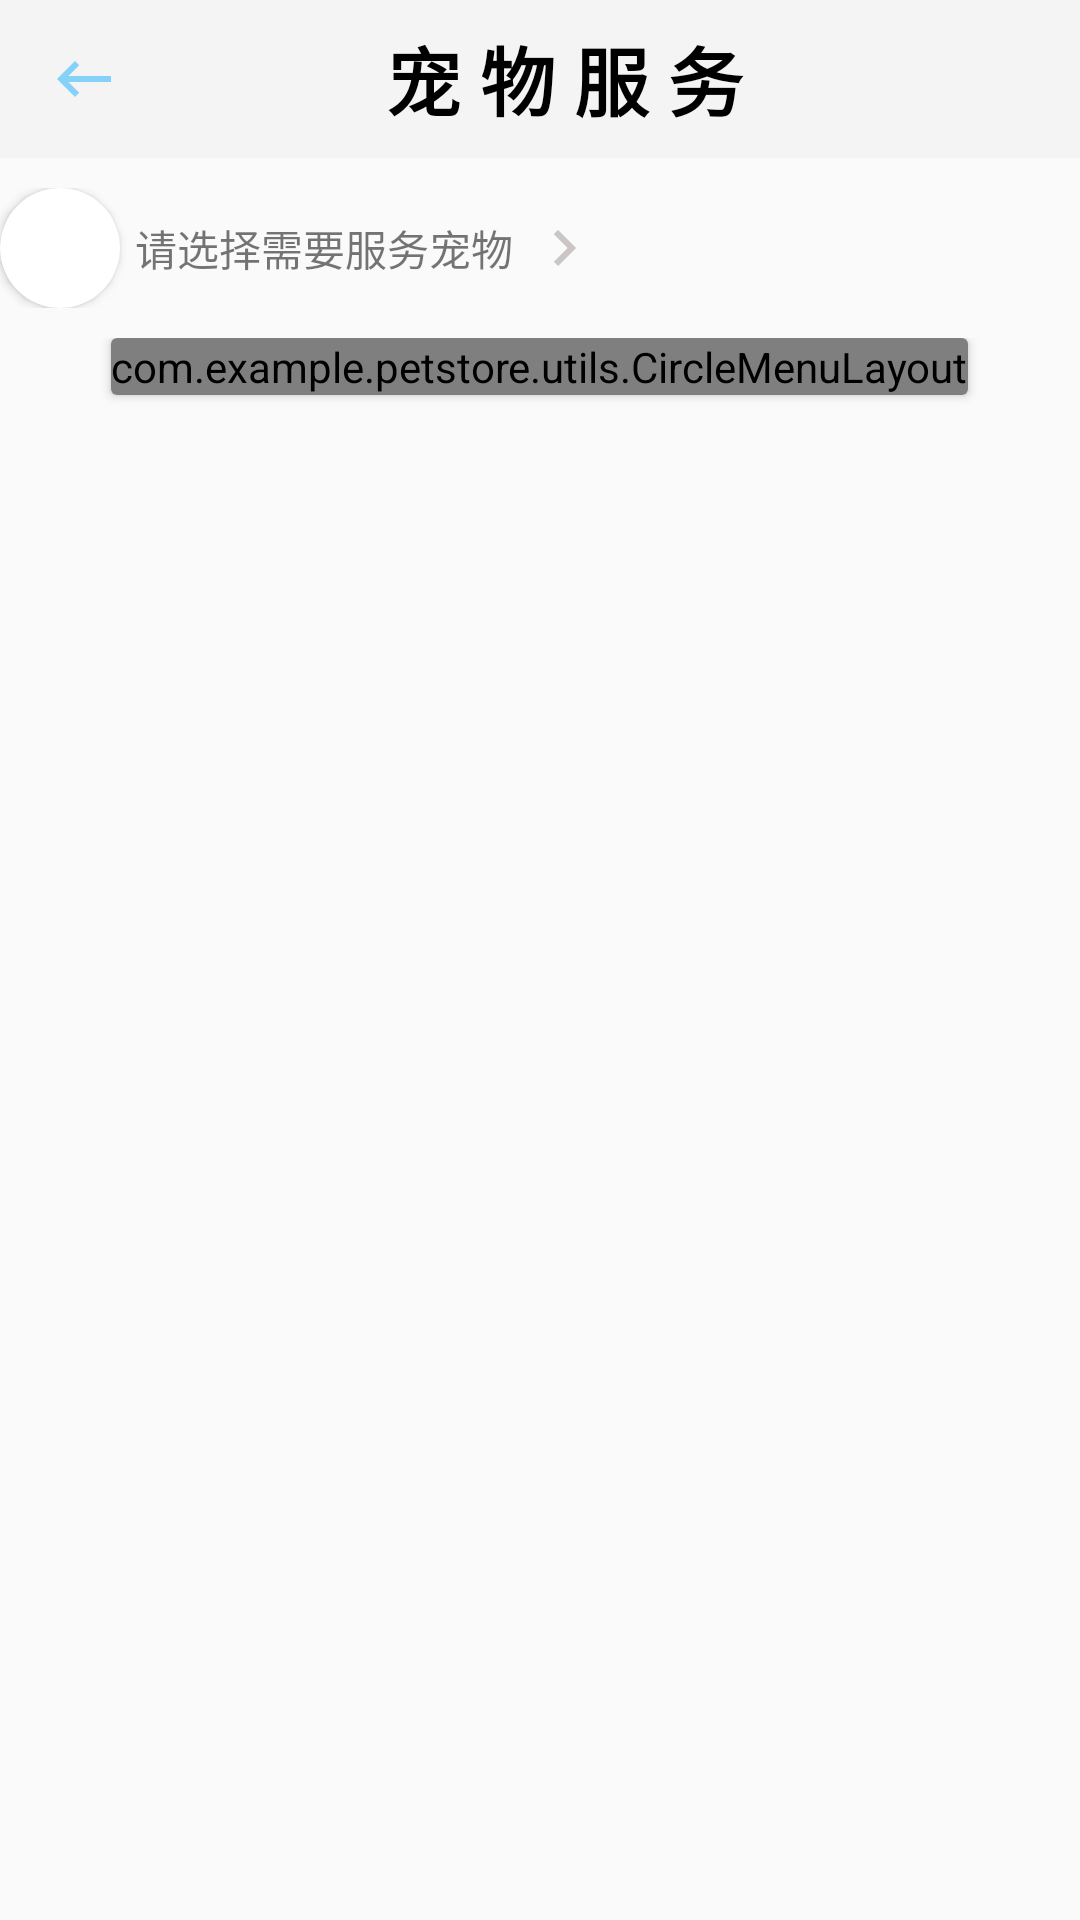

Locate icon controls on the screen. Image size 1080w x 1920h, boxes as (x1,y1,x2,y2).
back: (57,61,111,97)
keyboard arrow right: (554,230,576,266)
